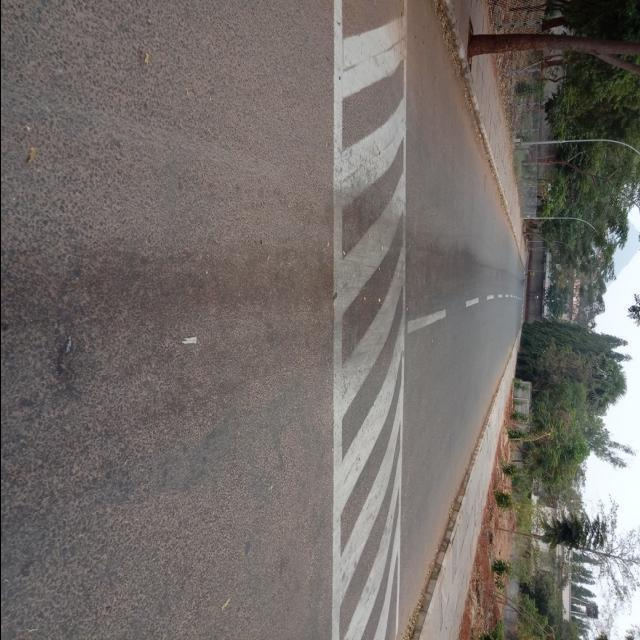speedbreaker: (326, 0, 420, 638)
